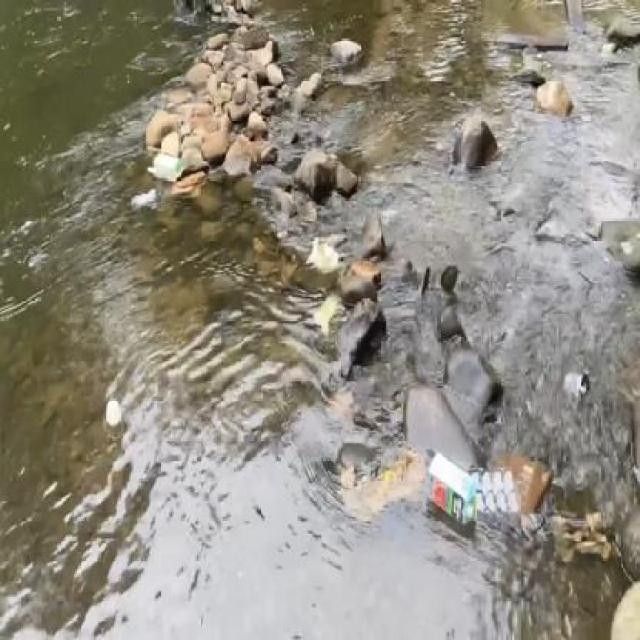Cardboard: (425, 449, 548, 521), (148, 148, 186, 188)
Paper: (338, 439, 433, 530), (168, 167, 209, 204), (103, 396, 125, 432)
Plastic: (302, 235, 344, 279), (314, 289, 346, 337), (559, 365, 593, 403), (129, 183, 162, 215)
